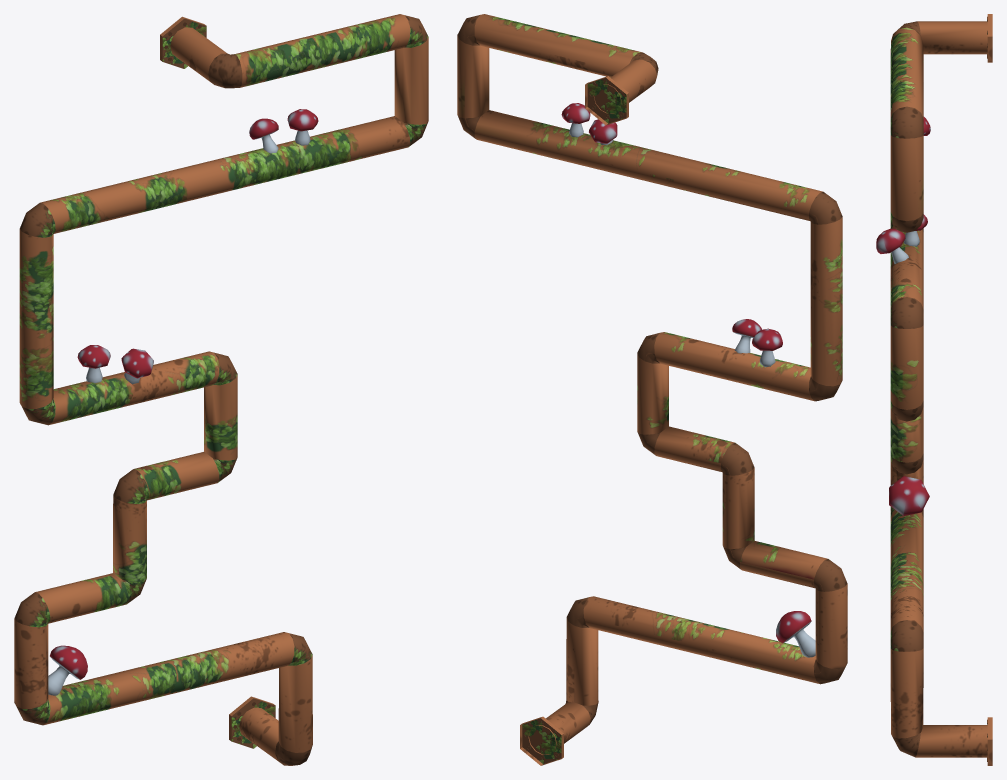
The model's file is SteampunkPipeC.fbx.
3 views of the same model, side by side, from view 1: azimuth 30°, elevation 25°; view 2: azimuth 150°, elevation 25°; view 3: azimuth 270°, elevation 25° (orthographic). The views are drawn at different scales.
Parts seen in each view (by area): view 1: SteampunkPipeC; view 2: SteampunkPipeC; view 3: SteampunkPipeC.
Part boxes in pixels (bbox=[...]): SteampunkPipeC: bbox=[14, 14, 428, 765]; SteampunkPipeC: bbox=[457, 14, 847, 765]; SteampunkPipeC: bbox=[876, 14, 992, 765].
Size of the model in its own units: 423 by 738 by 108.
